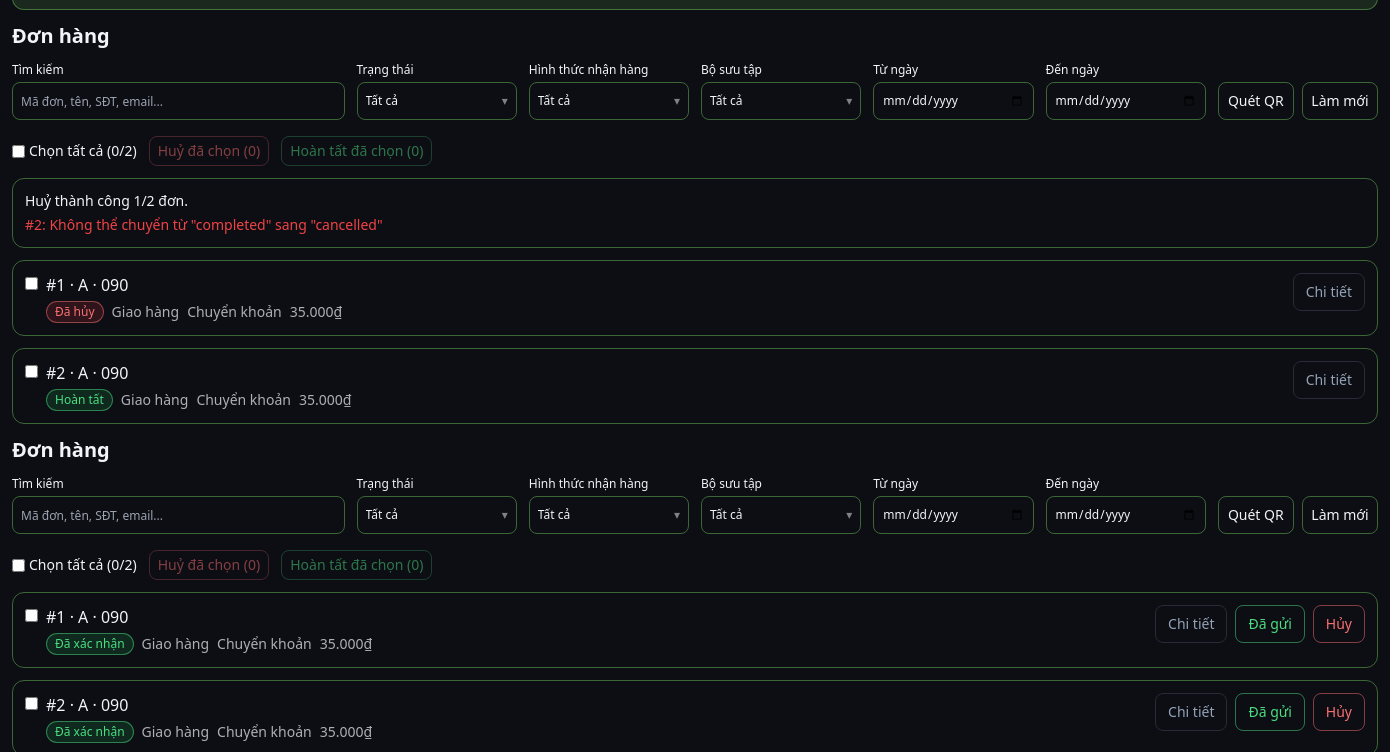
Test case: AdminOrders bulk cancel › shows the cancel-specific banner text after a full-success bulk cancel
The image size is (1390, 752).
(page scrolled)
Click the 2nd checkbox labelled "Chọn tất cả (0/2)": (18, 565) [12,558,25,572]
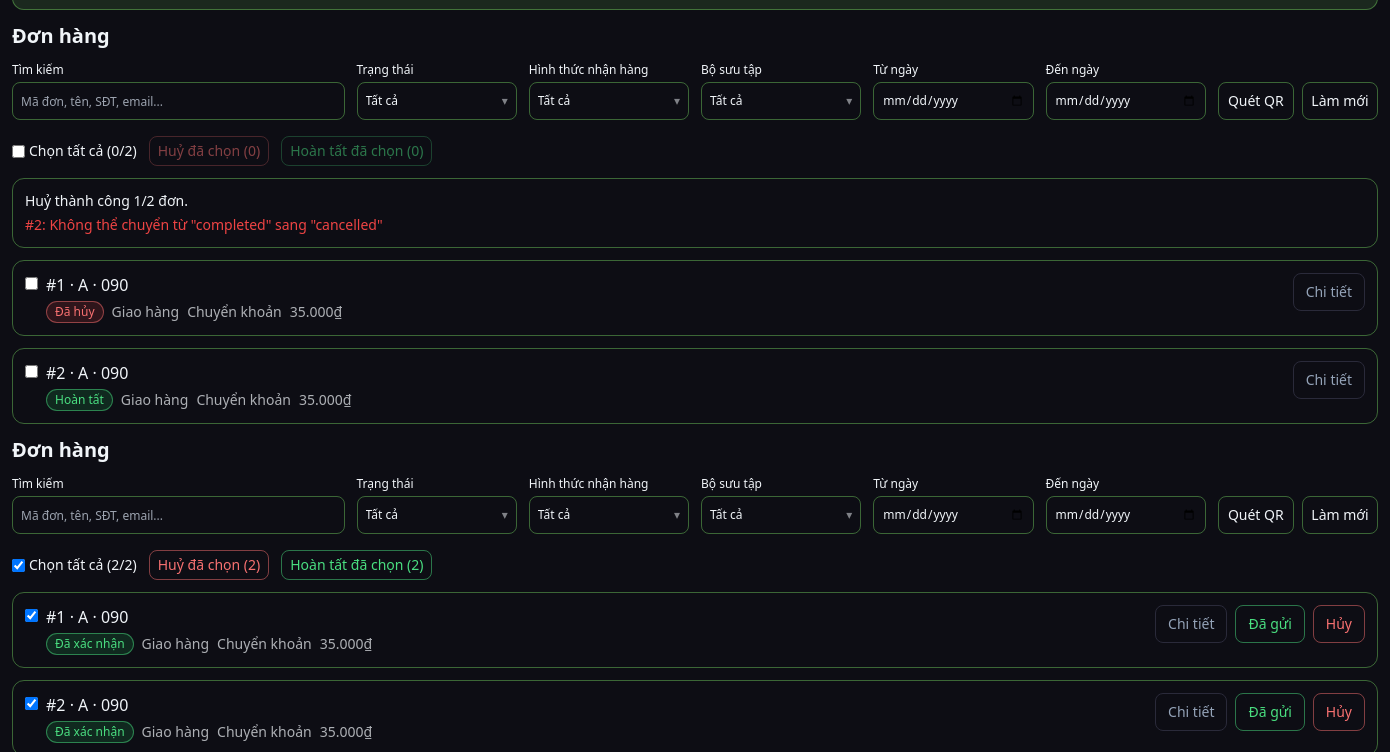
Click the button "Huỷ đã chọn (2)": (209, 565) [149,550,269,580]
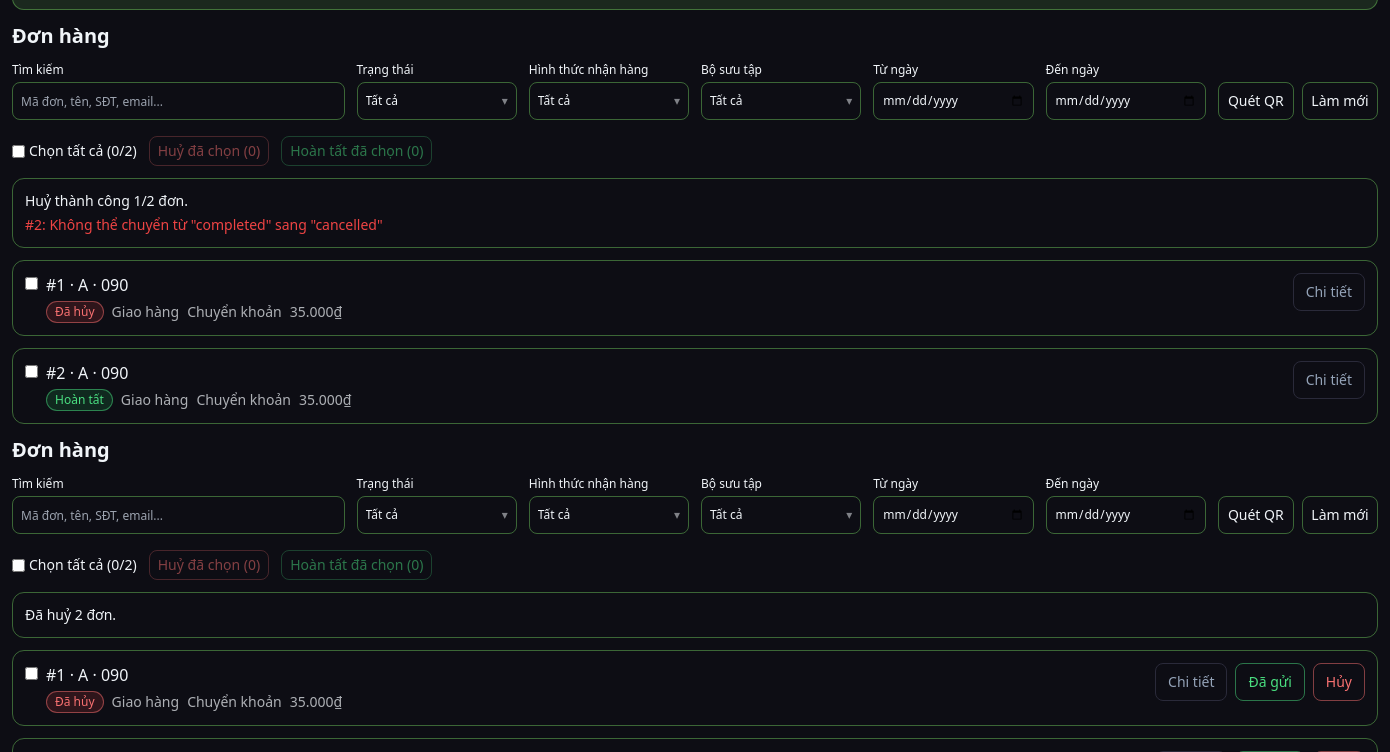
Expected: the text "Đã huỷ 2 đơn." is shown, [25,605,116,624]
